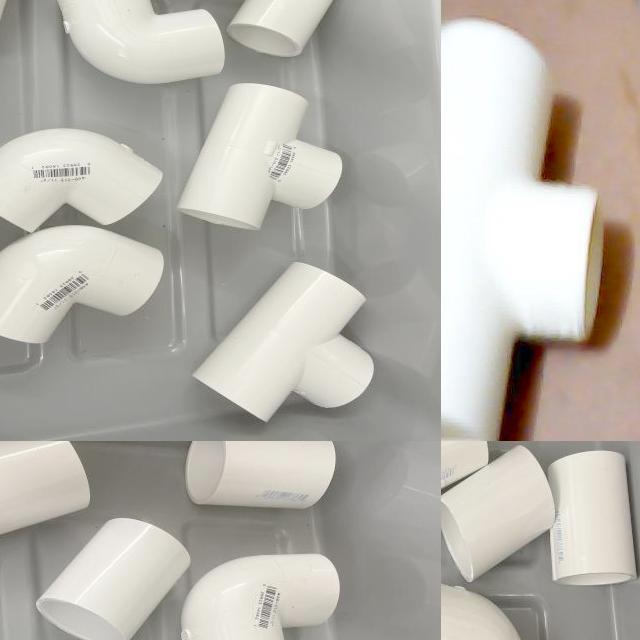L Joint: (0, 228, 167, 351), (0, 128, 163, 234), (58, 0, 227, 84), (180, 555, 342, 640), (441, 583, 523, 640)
T Joint: (441, 18, 604, 441), (192, 262, 375, 425), (177, 83, 346, 233)
